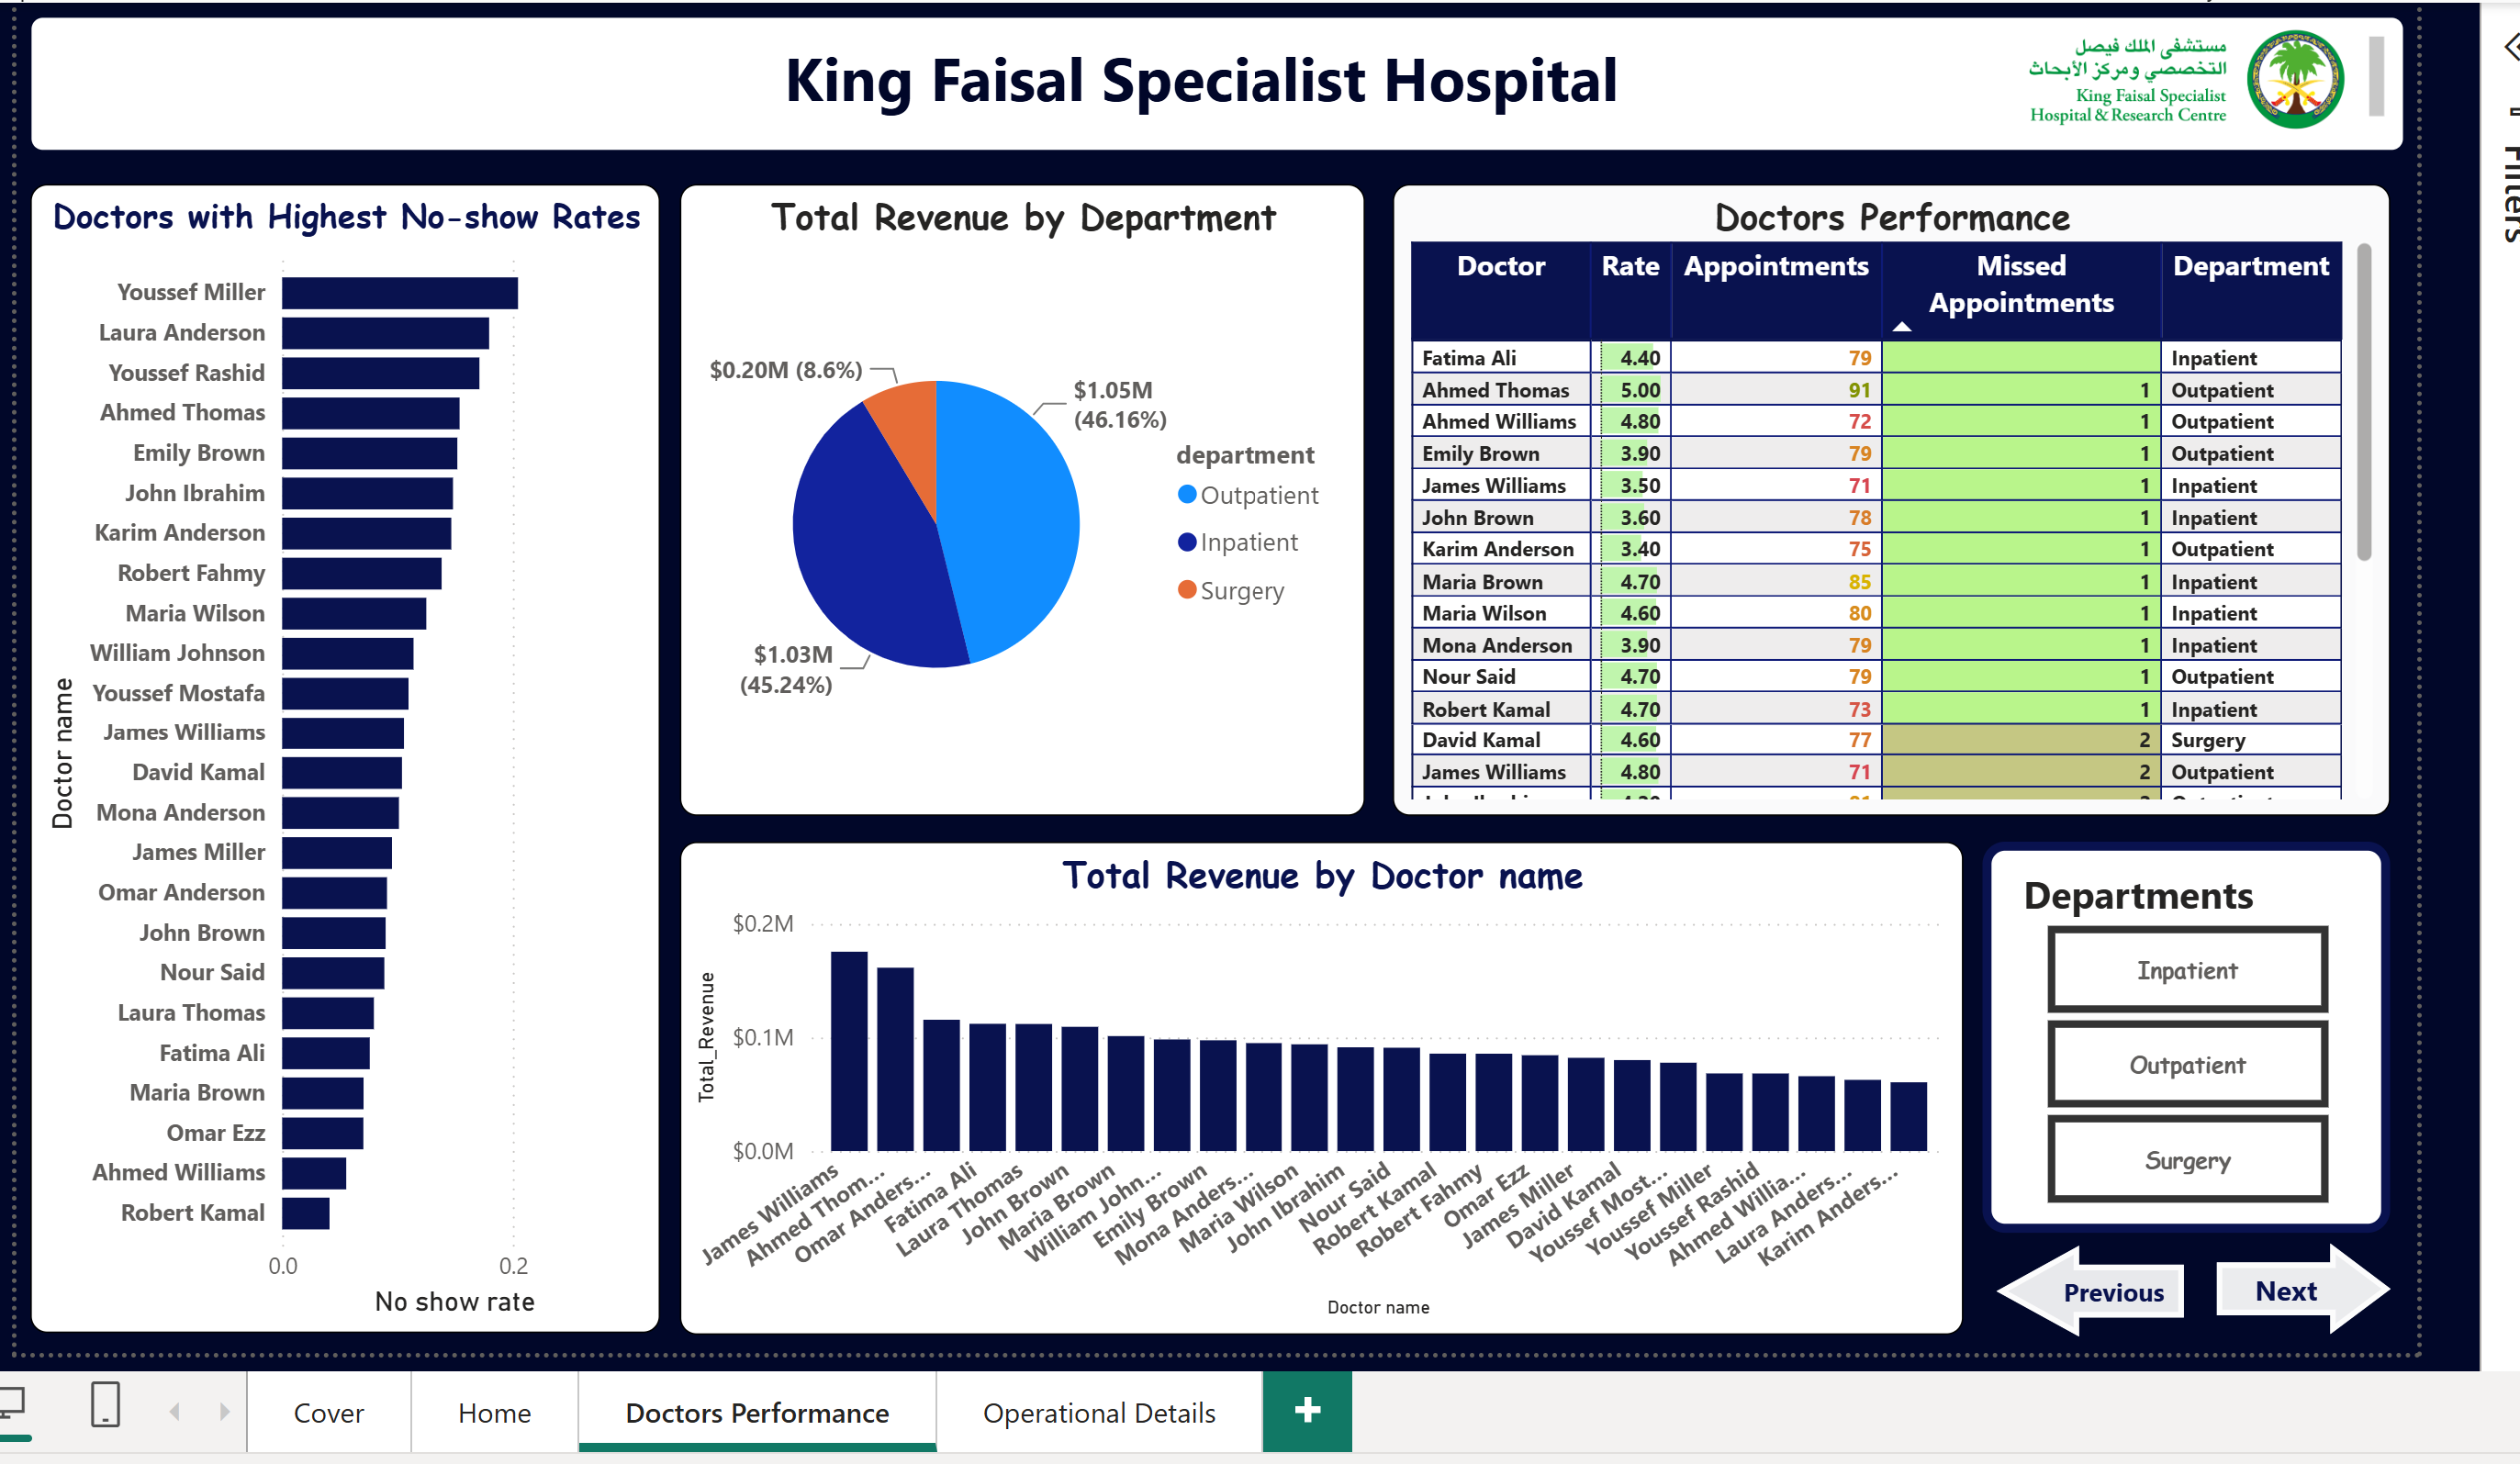

The dashboard page shown, as its layout file describes it:
{"tool":"powerbi","page":{"name":"Doctors Performance","canvas":[1280,720],"ordinal":2},"visuals":[{"type":"textbox","box":[0,0,1280,86.2],"z":0},{"type":"image","box":[1046.2,10,220,63.8],"z":1000},{"type":"barChart","title":"Doctors with Highest No-show Rates","fields":{"Y":["appointments.No show rate"],"Category":["doctors.Doctor name"]},"box":[7.1,97.1,335.7,612.9],"z":2000},{"type":"actionButton","box":[1055.7,662.9,100,48.6],"z":3000},{"type":"actionButton","title":"Next","box":[1172.9,661.4,92.9,48.6],"z":4000},{"type":"tableEx","title":"Doctors Performance","fields":{"Values":["doctors.Doctor name","doctors.avg_rating","appointments.Total Appointments","appointments.Doctor Missed Rate","doctors.department"]},"box":[734.3,97.1,531.4,337.1],"z":5000},{"type":"slicer","fields":{"Values":["doctors.department"]},"box":[1048.6,447.1,217.1,208.6],"z":6000},{"type":"columnChart","title":"Total Revenue by Doctor name","fields":{"Category":["doctors.Doctor name"],"Y":["billing.Total_Revenue"]},"box":[352.9,447.1,684.3,262.9],"z":7000},{"type":"pieChart","title":"Total Revenue by Department","fields":{"Category":["treatments.department"],"Y":["billing.Total_Revenue"]},"box":[352.9,97.1,365.7,337.1],"z":8001}]}

Visuals, with their boxes in screenshot pixels (x1, y1, x2, y2):
textbox: 13:0:2410:162
image: 1972:18:2384:139
"Doctors with Highest No-show Rates" barChart: 27:182:655:1329
actionButton: 1990:1241:2178:1332
"Next" actionButton: 2210:1238:2383:1329
"Doctors Performance" tableEx: 1388:182:2383:813
slicer - doctors.department: 1977:837:2383:1228
"Total Revenue by Doctor name" columnChart: 674:837:1955:1329
"Total Revenue by Department" pieChart: 674:182:1359:813
